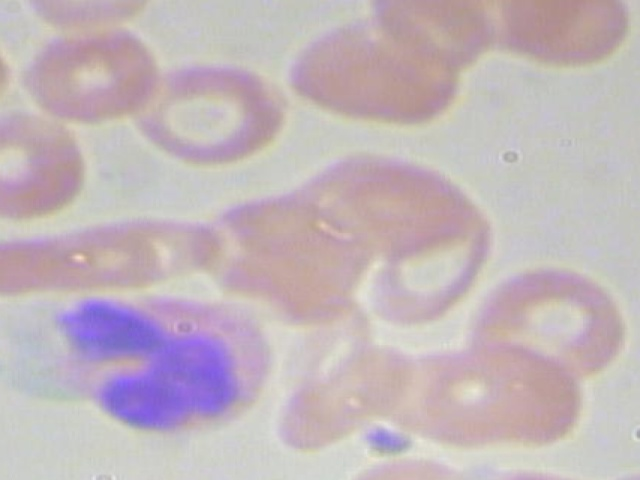Platelets: (360, 418, 417, 457), (0, 349, 9, 382)
RBC: (280, 15, 464, 132), (457, 264, 640, 381), (348, 213, 515, 329), (129, 58, 293, 168), (4, 19, 168, 129), (298, 151, 480, 250), (186, 184, 354, 287), (408, 337, 552, 447), (0, 217, 164, 293), (490, 0, 640, 75), (0, 111, 98, 223), (0, 17, 6, 121), (637, 111, 640, 228)
WBC: (40, 284, 278, 441)
